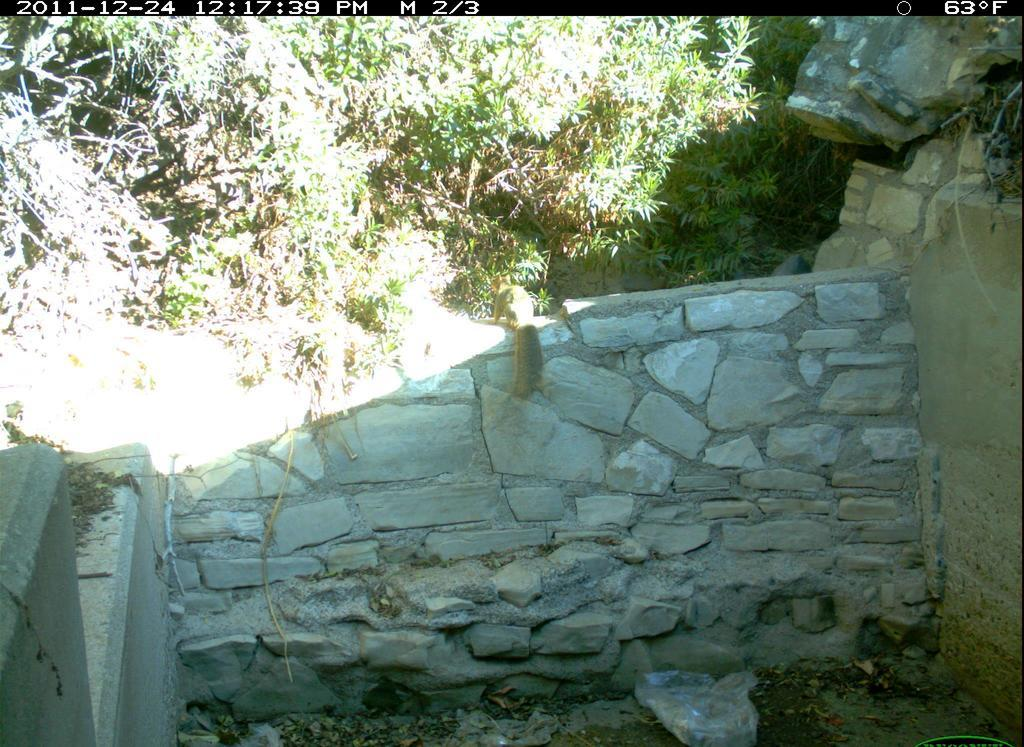squirrel: (479, 265, 559, 413)
